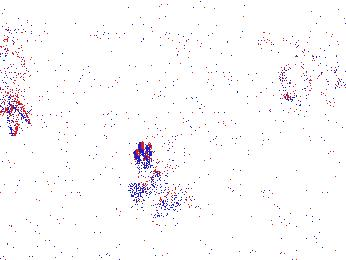flame jellyfish: (132, 141, 195, 228), (281, 52, 342, 112), (1, 38, 31, 137)
